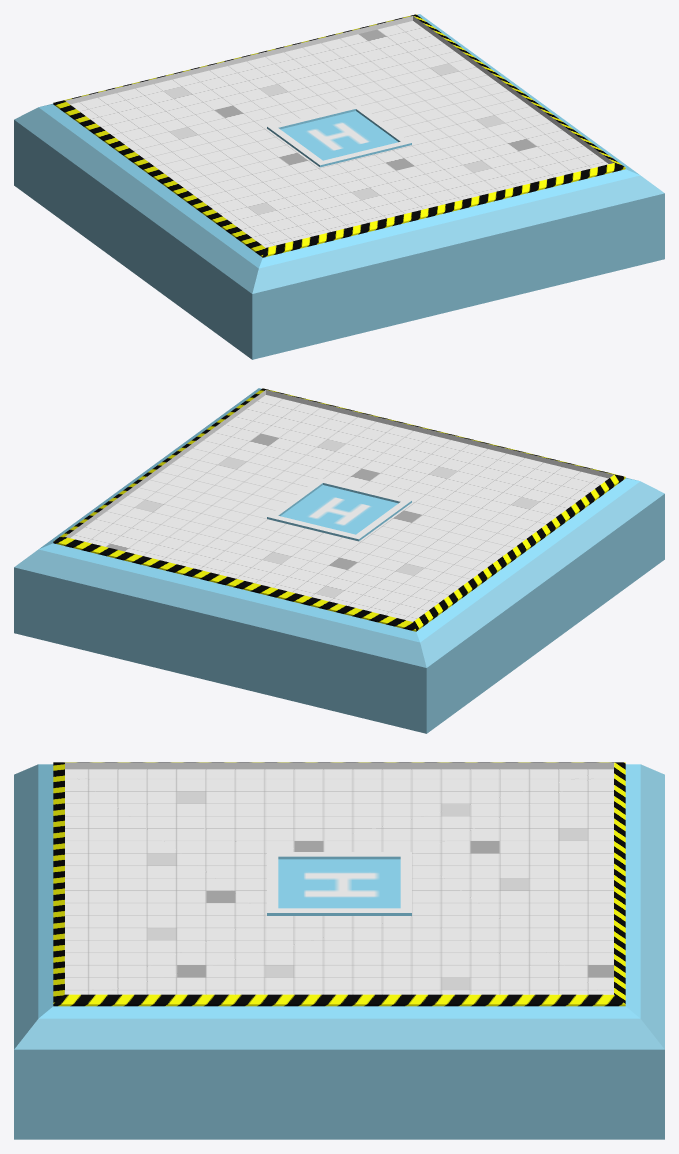
File: building1.fbx
The picture shows the model from 3 angles, top to bottom: view 1: azimuth 30°, elevation 25°; view 2: azimuth 150°, elevation 25°; view 3: azimuth 270°, elevation 25°; orthographic projection. The views are drawn at different scales.
Visible parts, largest first — view 1: building, floor, airport, airport_wall; view 2: building, floor, airport, airport_wall; view 3: building, floor, airport, airport_wall.
Boxes of the visible parts, x1,y1,x2,y2 form: building: (14, 14, 664, 359); floor: (70, 21, 608, 247); airport: (280, 111, 398, 160); airport_wall: (267, 104, 411, 167); building: (14, 388, 664, 733); floor: (70, 395, 608, 621); airport: (280, 485, 398, 534); airport_wall: (267, 478, 411, 541); building: (14, 762, 664, 1139); floor: (65, 769, 613, 994); airport: (278, 859, 400, 908); airport_wall: (267, 852, 411, 915).
Bounding box in the file's own units: 38.85 × 8.14 × 38.85.
1 material, 1 textured.
